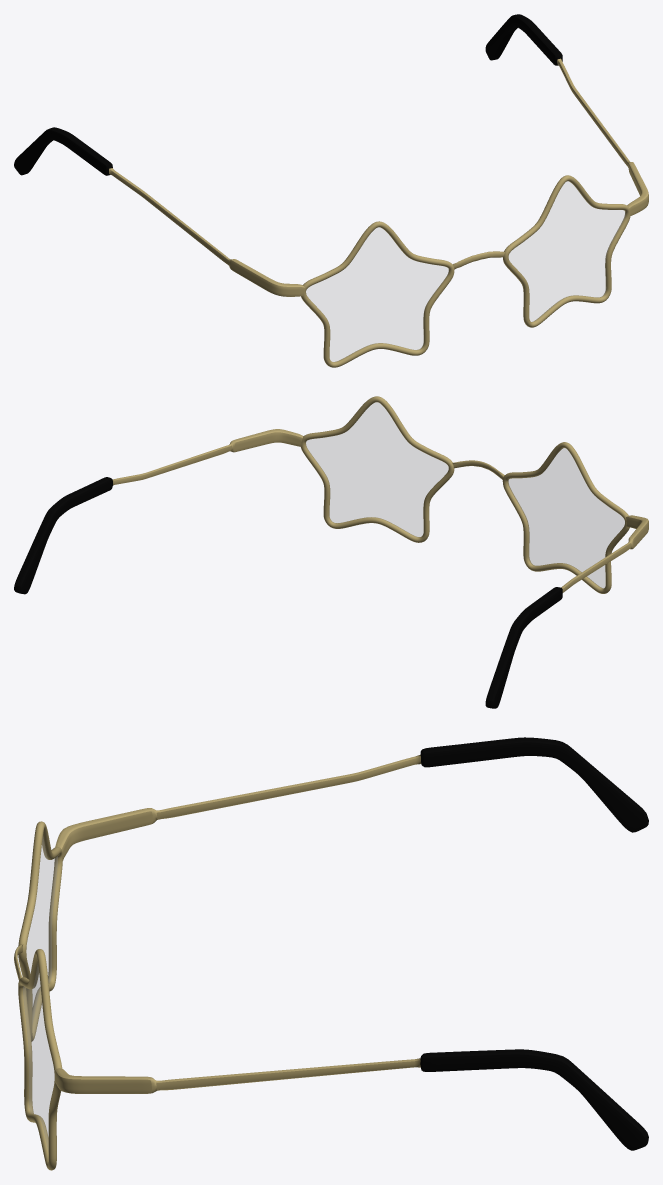
File: glasses04.glb
3 renders of one model, top to bottom at view 1: azimuth 30°, elevation 25°; view 2: azimuth 150°, elevation 25°; view 3: azimuth 270°, elevation 25°, orthographic. The views are drawn at different scales.
Parts seen in each view (by area): view 1: glass, frame; view 2: glass, frame; view 3: frame, glass.
Boxes of the visible parts, x1,y1,x2,y2 form: glass: (306, 181, 625, 361); frame: (14, 14, 648, 367); glass: (306, 402, 624, 588); frame: (14, 396, 648, 708); frame: (14, 737, 648, 1170); glass: (23, 837, 57, 1151).
Bounding box in the file's own units: 0.139 × 0.0386 × 0.1148.
